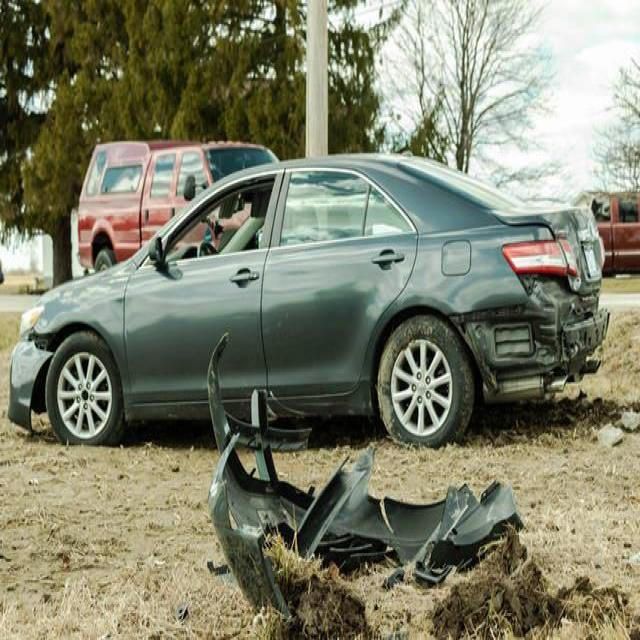damaged: (453, 272, 607, 386)
